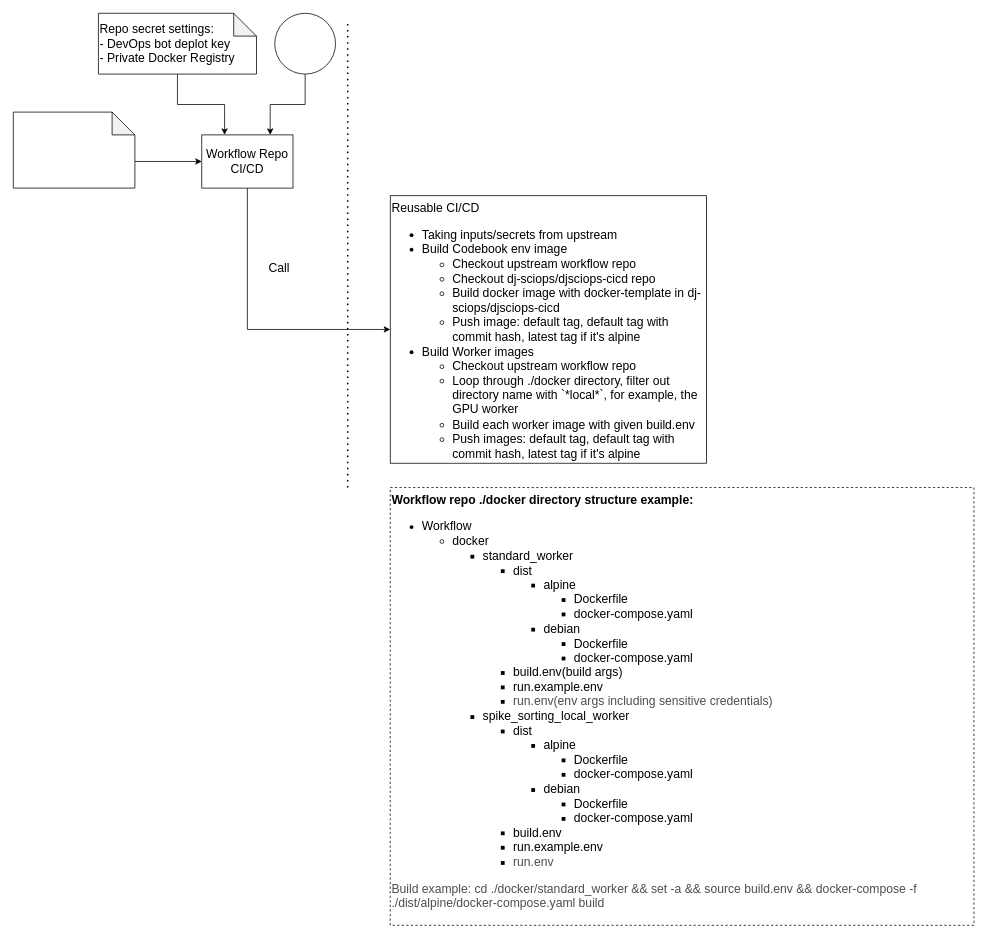
Some shapes in this 987 by 939 pixel diagram are drawn without their labels. The centre of each missing label's shape, as x and y in pixels:
"Common build args: - PY_VER - DIST" belongs at pixel 74 149.
"Push, PR, Manual" belongs at pixel 305 43.
